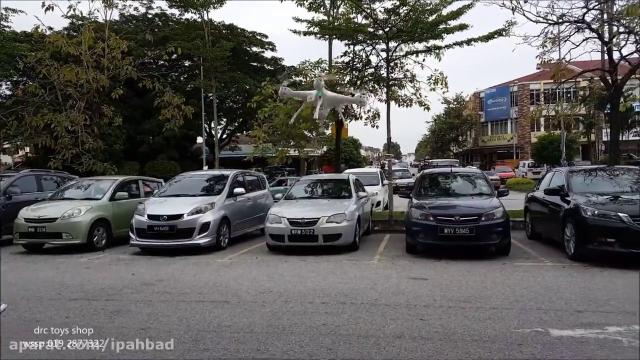drone: (277, 74, 367, 130)
